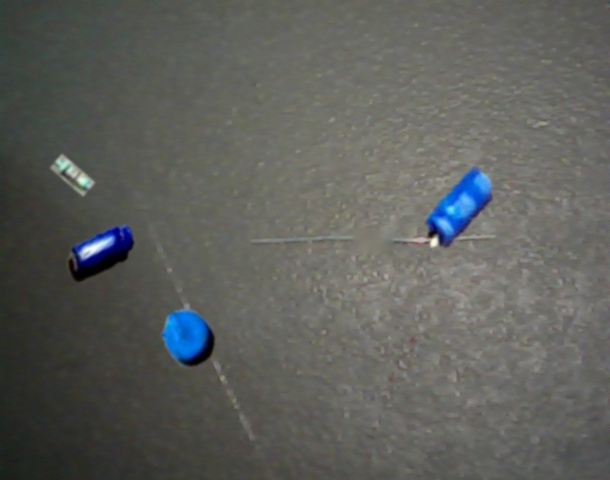capacitor: (425, 166, 493, 248), (67, 224, 135, 283), (161, 309, 216, 368)
resistor: (50, 154, 95, 196)
